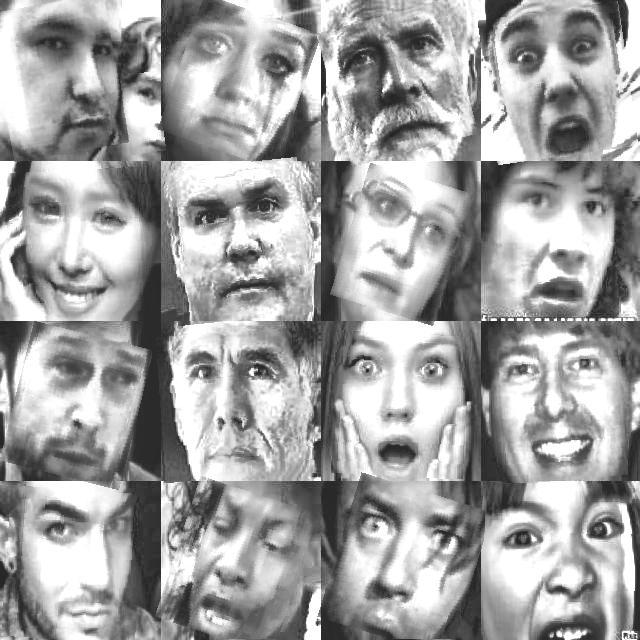fear: (326, 480, 482, 640), (483, 482, 640, 640), (483, 6, 633, 160), (333, 332, 469, 478), (494, 166, 618, 316)
happy: (3, 487, 142, 640), (490, 327, 625, 482), (6, 168, 146, 316), (0, 0, 123, 157)
neutral: (157, 330, 315, 480), (166, 161, 310, 323), (324, 8, 471, 160), (339, 170, 465, 320), (123, 72, 163, 154)
sad: (168, 2, 312, 161), (165, 484, 308, 640), (6, 328, 145, 484)
